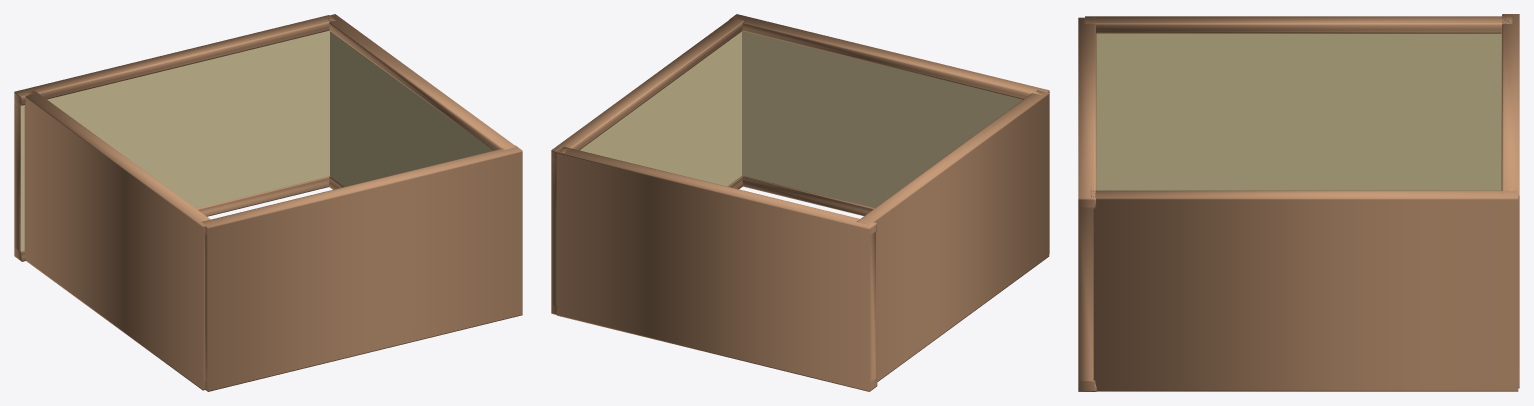
Rendered from testing_glitch.fbx.
3 views of the same model, side by side, from view 1: azimuth 30°, elevation 25°; view 2: azimuth 150°, elevation 25°; view 3: azimuth 270°, elevation 25° (orthographic). The views are drawn at different scales.
Visible parts, largest first — view 1: room_test; view 2: room_test; view 3: room_test.
Boxes of the visible parts, bbox=[...] form: room_test: bbox=[14, 14, 522, 391]; room_test: bbox=[551, 14, 1049, 391]; room_test: bbox=[1078, 14, 1519, 391].
Size of the model in its own units: 816 by 400 by 826.
